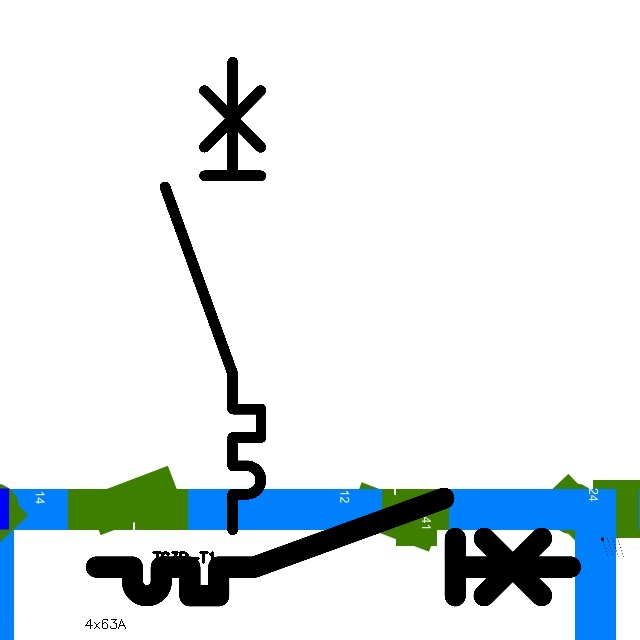interruptor_termomagnetico: (84, 486, 583, 608), (153, 50, 273, 542)
